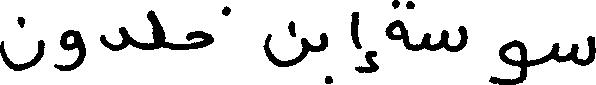X: (0, 12, 43, 75), (265, 16, 307, 71), (491, 35, 525, 84), (556, 31, 595, 70), (56, 25, 83, 75), (427, 21, 465, 56), (386, 0, 405, 51), (104, 22, 127, 55), (150, 5, 163, 54), (189, 26, 209, 53), (353, 7, 360, 77), (321, 28, 326, 84)
